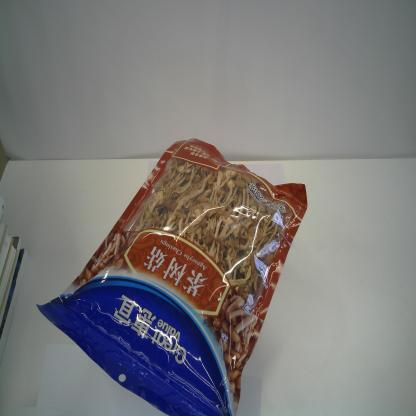Dried Food: (35, 137, 308, 416)
